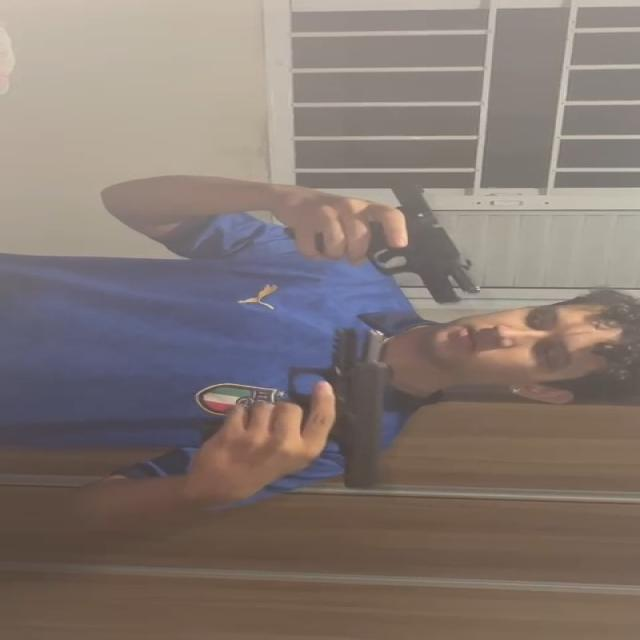gun: (284, 328, 388, 493), (390, 181, 477, 304)
